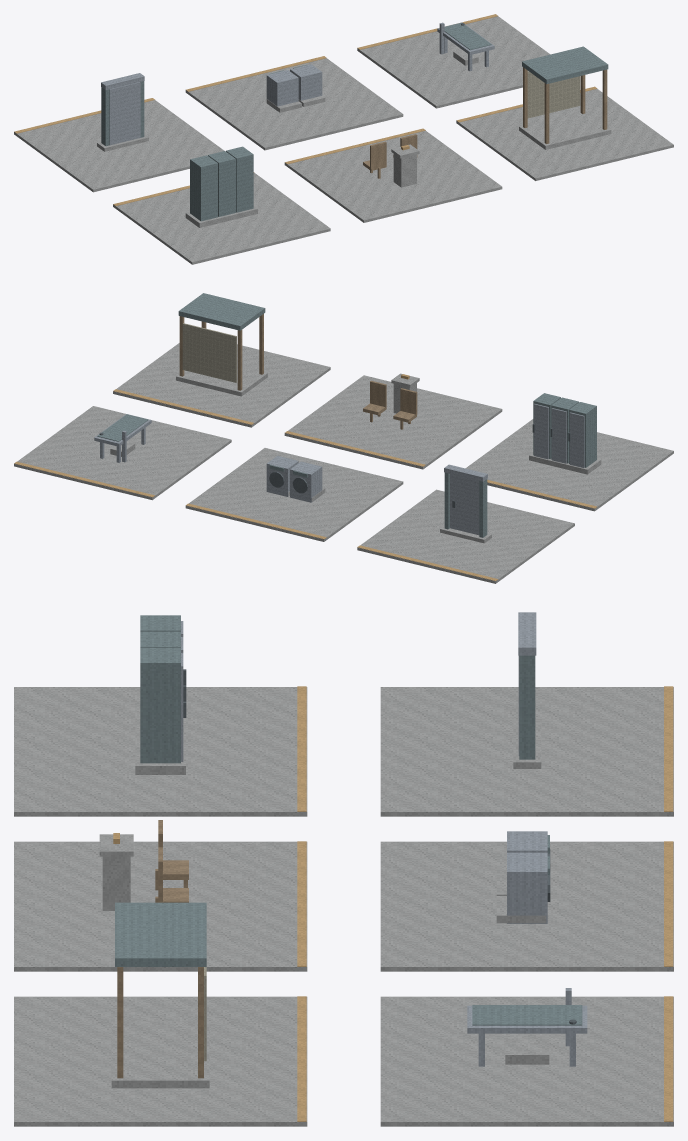
File: level_blockout_kit_wld_07_mortuary_p03.glb
3 renders of one model, top to bottom at view 1: azimuth 30°, elevation 25°; view 2: azimuth 150°, elevation 25°; view 3: azimuth 270°, elevation 25°, orthographic. The views are drawn at different scales.
Parts seen in each view (by area): view 1: level_blockout_kit_wld_07_mortuary_p03; view 2: level_blockout_kit_wld_07_mortuary_p03; view 3: level_blockout_kit_wld_07_mortuary_p03.
Part boxes in pixels (x1,y1,x2,y2): level_blockout_kit_wld_07_mortuary_p03: [14, 14, 673, 264]; level_blockout_kit_wld_07_mortuary_p03: [14, 293, 673, 583]; level_blockout_kit_wld_07_mortuary_p03: [14, 612, 673, 1126].
Size of the model in its own units: 19.65 by 2.81 by 12.6.
7 materials, 7 textured.
